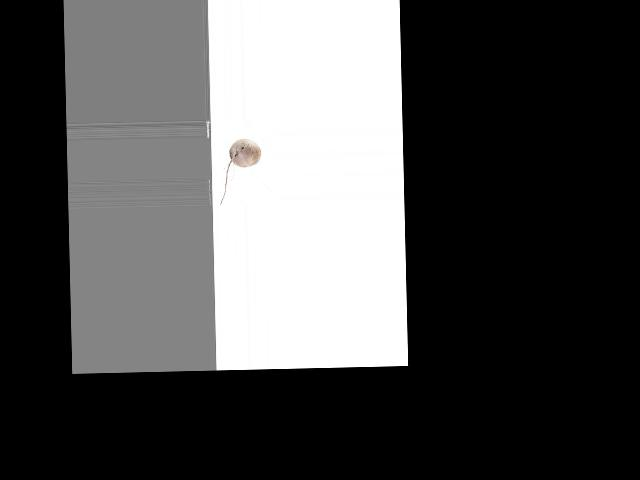beet: (218, 138, 261, 205)
